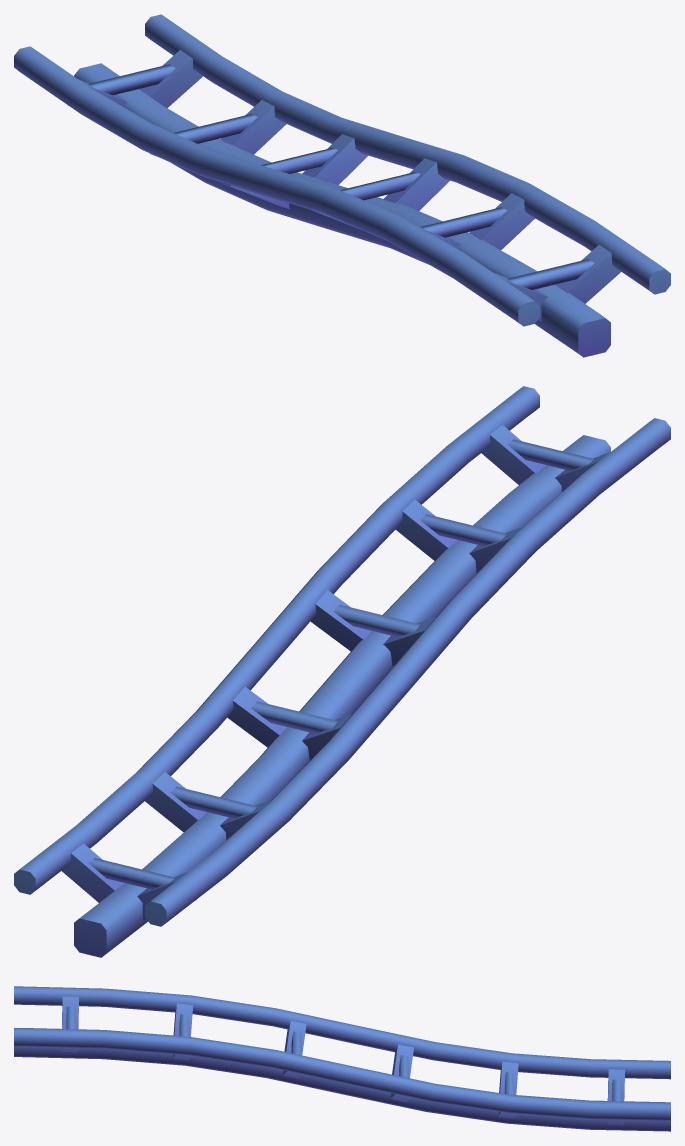
The model's file is kenney-coaster-coaster-steel-straight-hill-complete-half.glb.
3 views of the same model, one above another, from view 1: azimuth 30°, elevation 25°; view 2: azimuth 150°, elevation 25°; view 3: azimuth 270°, elevation 25° (orthographic). The views are drawn at different scales.
Visible parts, largest first — view 1: coaster-steel-straight-hill-complete-half; view 2: coaster-steel-straight-hill-complete-half; view 3: coaster-steel-straight-hill-complete-half.
Boxes of the visible parts, x1,y1,x2,y2 form: coaster-steel-straight-hill-complete-half: [14, 14, 670, 357]; coaster-steel-straight-hill-complete-half: [14, 386, 670, 957]; coaster-steel-straight-hill-complete-half: [14, 986, 670, 1131].
Bounding box in the file's own units: 0.6997 × 0.7998 × 4.
1 material, 1 textured.
